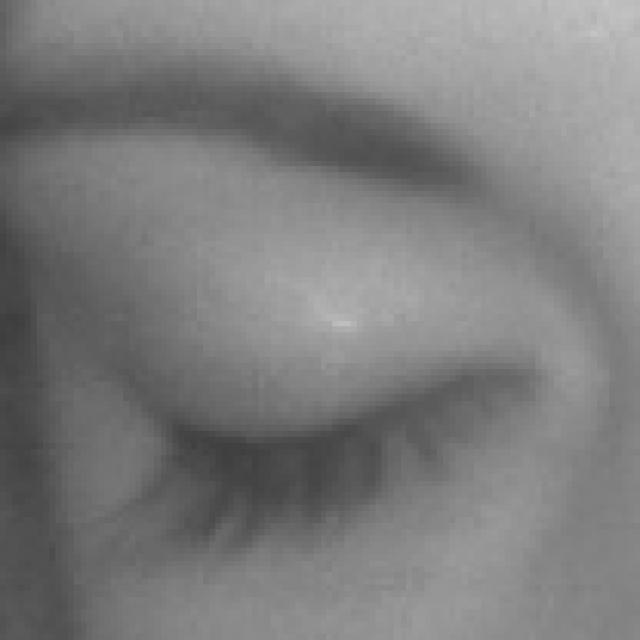Eyeclosed: (138, 262, 536, 632)
